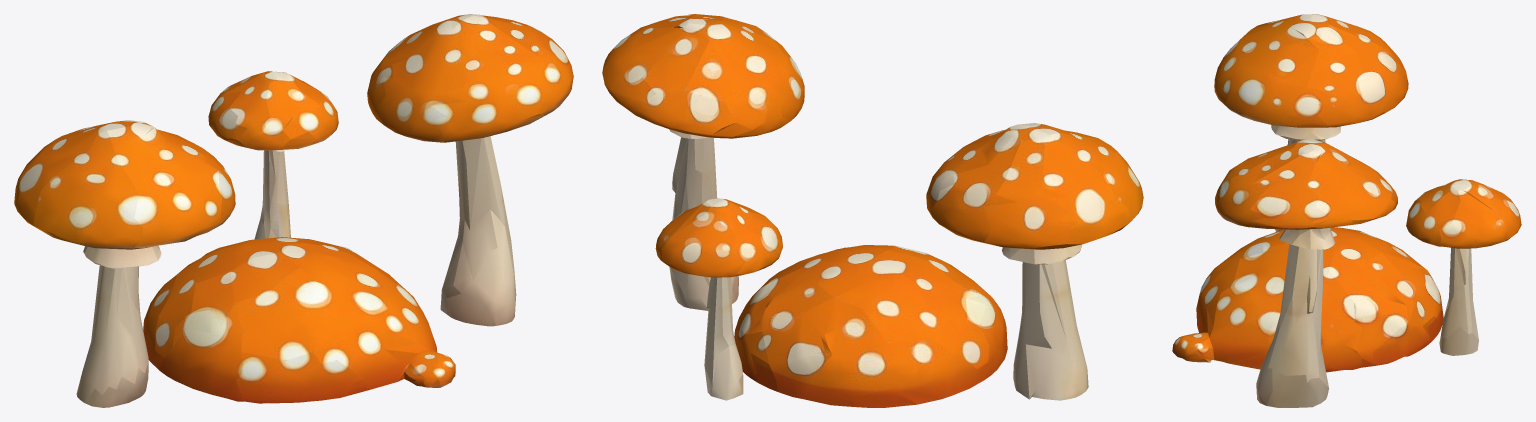
The model's file is Mushrooms.glb.
3 views of the same model, side by side, from view 1: azimuth 30°, elevation 25°; view 2: azimuth 150°, elevation 25°; view 3: azimuth 270°, elevation 25° (orthographic). The views are drawn at different scales.
Size of the model in its own units: 0.8626 by 0.45 by 0.5663.
1 material, 1 textured.
